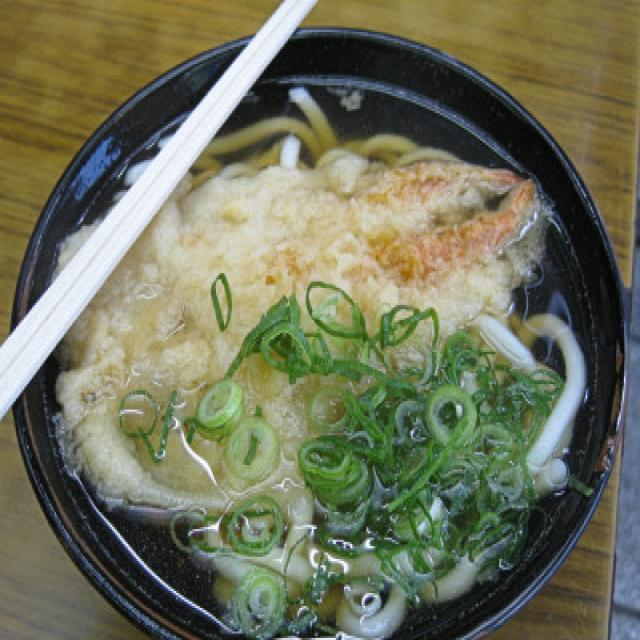面条主食: (45, 70, 592, 636)
